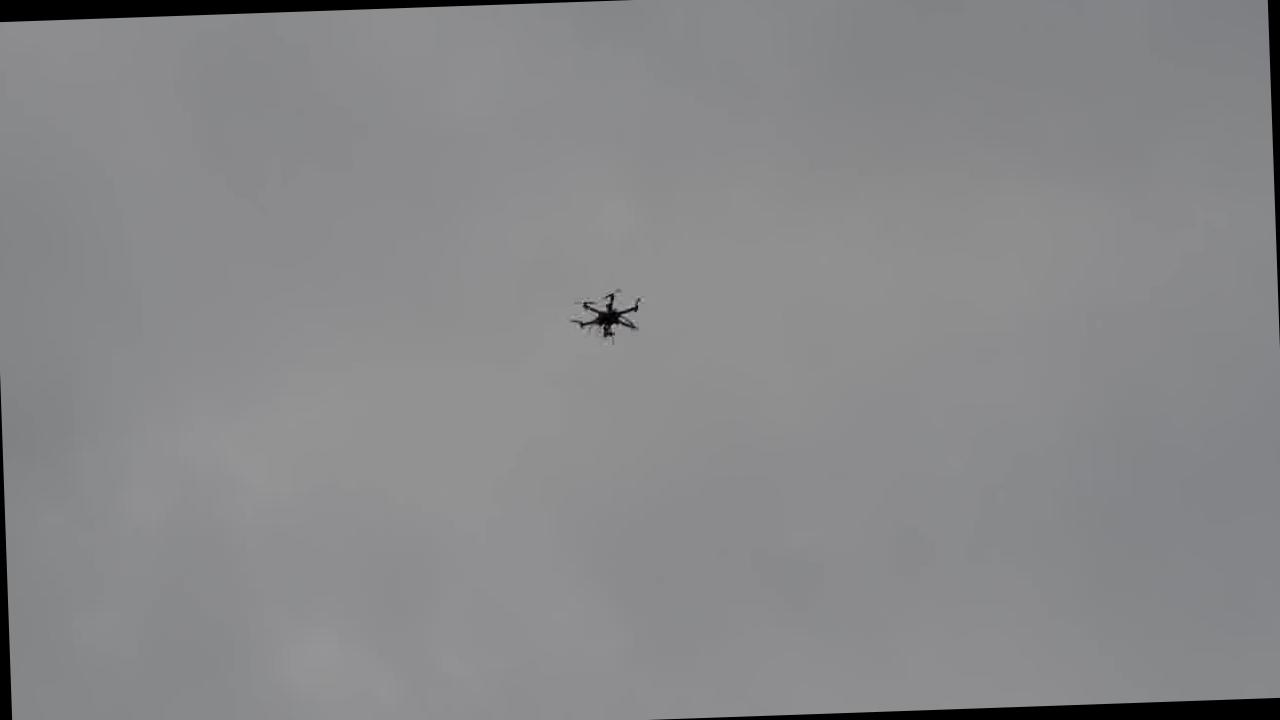drone: (568, 284, 646, 348)
